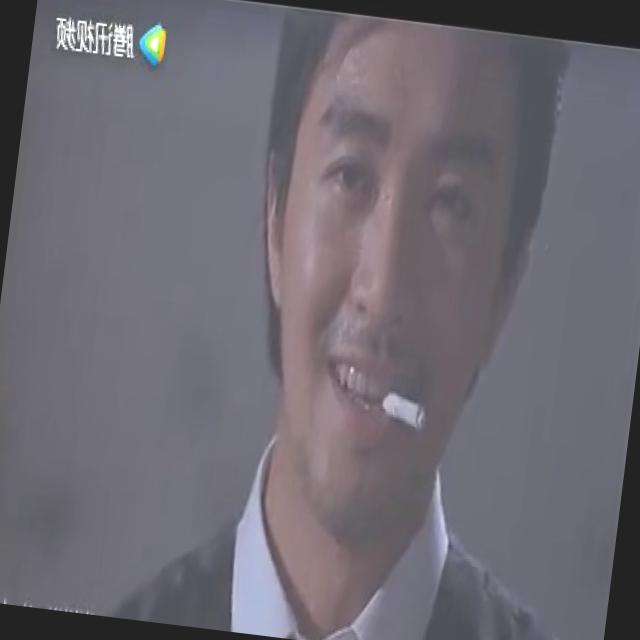smoke: (372, 390, 434, 435)
